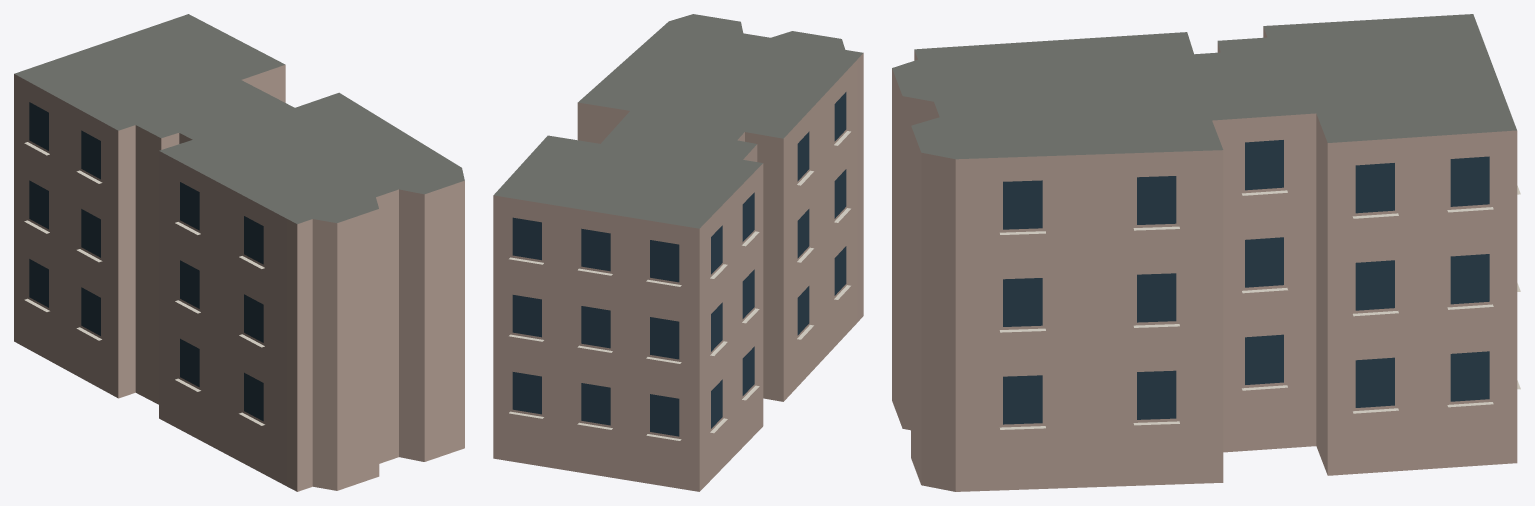
The picture shows the model from 3 angles, left to right: view 1: azimuth 30°, elevation 25°; view 2: azimuth 150°, elevation 25°; view 3: azimuth 270°, elevation 25°; orthographic projection. The views are drawn at different scales.
Visible parts, largest first — view 1: Footprint 0, Inferred window bays, Window sills; view 2: Footprint 0, Inferred window bays, Window sills; view 3: Footprint 0, Inferred window bays, Window sills.
Part boxes in pixels (x1,y1,x2,y2): Footprint 0: (14, 14, 464, 491); Inferred window bays: (29, 102, 263, 421); Window sills: (24, 142, 264, 425); Footprint 0: (493, 14, 863, 491); Inferred window bays: (512, 92, 846, 436); Window sills: (509, 131, 850, 440); Footprint 0: (892, 14, 1517, 491); Inferred window bays: (1003, 140, 1489, 424); Window sills: (999, 185, 1520, 429).
Bounding box in the file's own units: 10.97 × 11.46 × 19.64.
